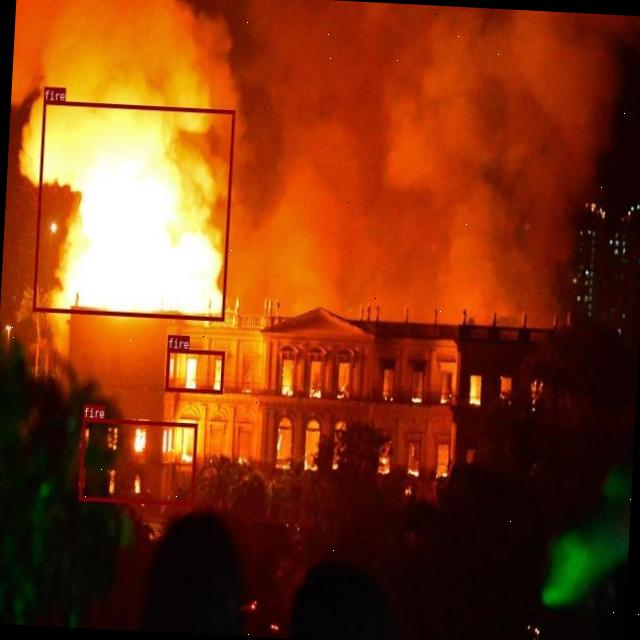fire: (32, 100, 235, 321), (78, 418, 196, 506), (165, 348, 224, 394)
